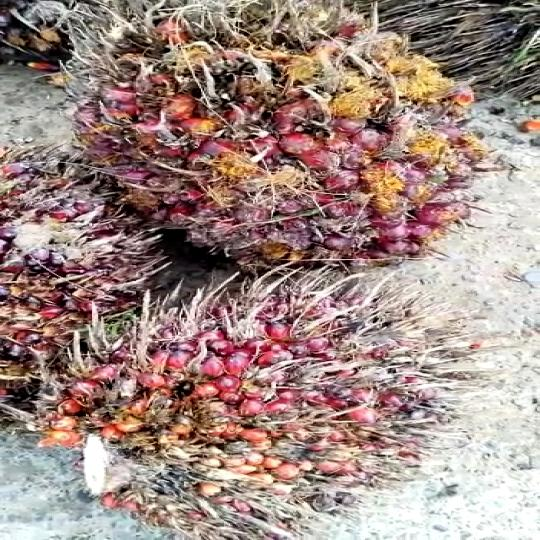masak: (47, 0, 540, 286), (28, 282, 465, 533)
